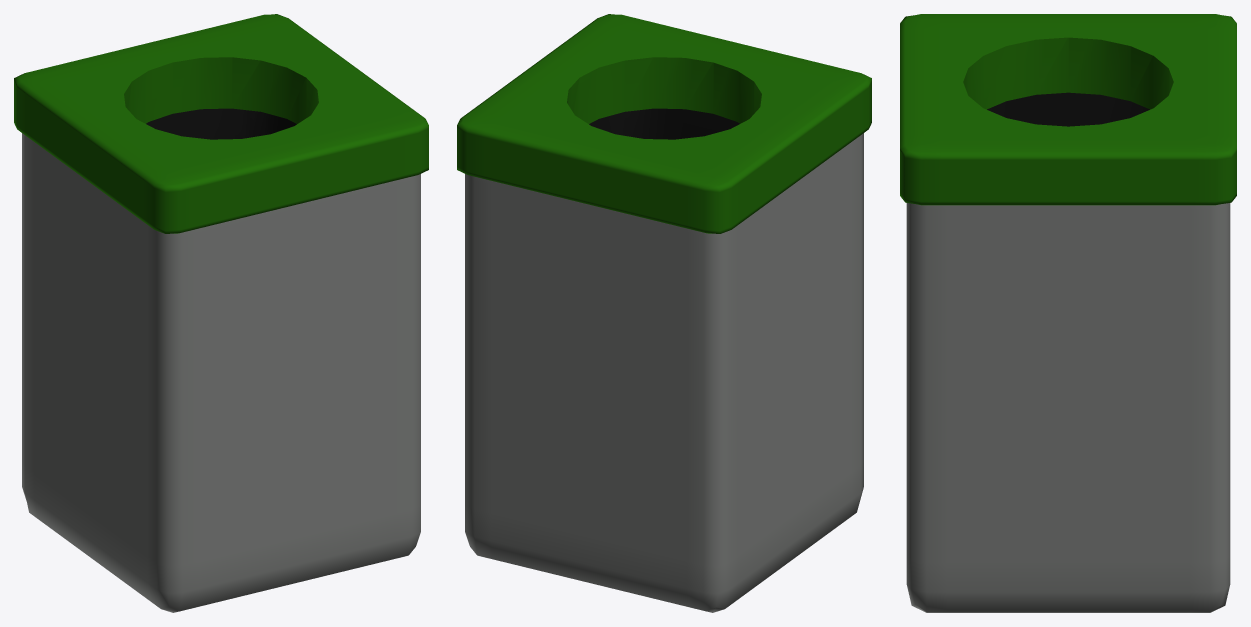
Rendered from RecycleBin.fbx.
3 views of the same model, side by side, from view 1: azimuth 30°, elevation 25°; view 2: azimuth 150°, elevation 25°; view 3: azimuth 270°, elevation 25° (orthographic). The views are drawn at different scales.
Parts seen in each view (by area): view 1: pCube7; view 2: pCube7; view 3: pCube7.
Part boxes in pixels (box(x1,y1,x2,y2)): pCube7: box(14, 14, 428, 612); pCube7: box(457, 14, 871, 612); pCube7: box(900, 14, 1236, 612).
Bounding box in the file's own units: 1.25 × 1.92 × 1.25.
